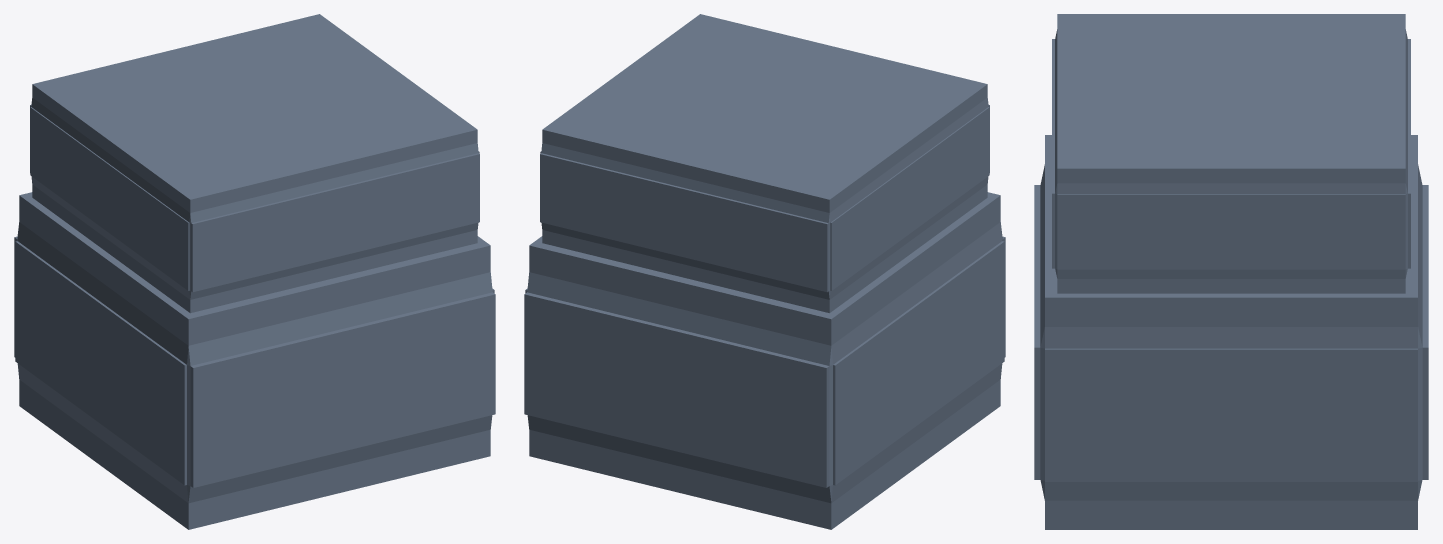
File: bb_comp_DiceTray_TrayBed.fbx
3 renders of one model, left to right at view 1: azimuth 30°, elevation 25°; view 2: azimuth 150°, elevation 25°; view 3: azimuth 270°, elevation 25°, orthographic. The views are drawn at different scales.
Parts seen in each view (by area): view 1: bb_comp_DiceTray_TrayBed; view 2: bb_comp_DiceTray_TrayBed; view 3: bb_comp_DiceTray_TrayBed.
Part boxes in pixels (<box>): bb_comp_DiceTray_TrayBed: <box>14,14,495,529</box>; bb_comp_DiceTray_TrayBed: <box>524,14,1005,529</box>; bb_comp_DiceTray_TrayBed: <box>1034,14,1428,529</box>.
Size of the model in its own units: 1 by 1 by 1.
